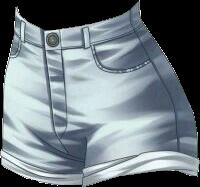Hemline: (83, 168, 198, 186), (1, 163, 83, 186)
Pantleg: (43, 0, 197, 186), (0, 6, 83, 185)
Waistline: (15, 0, 140, 30), (13, 22, 143, 49)
